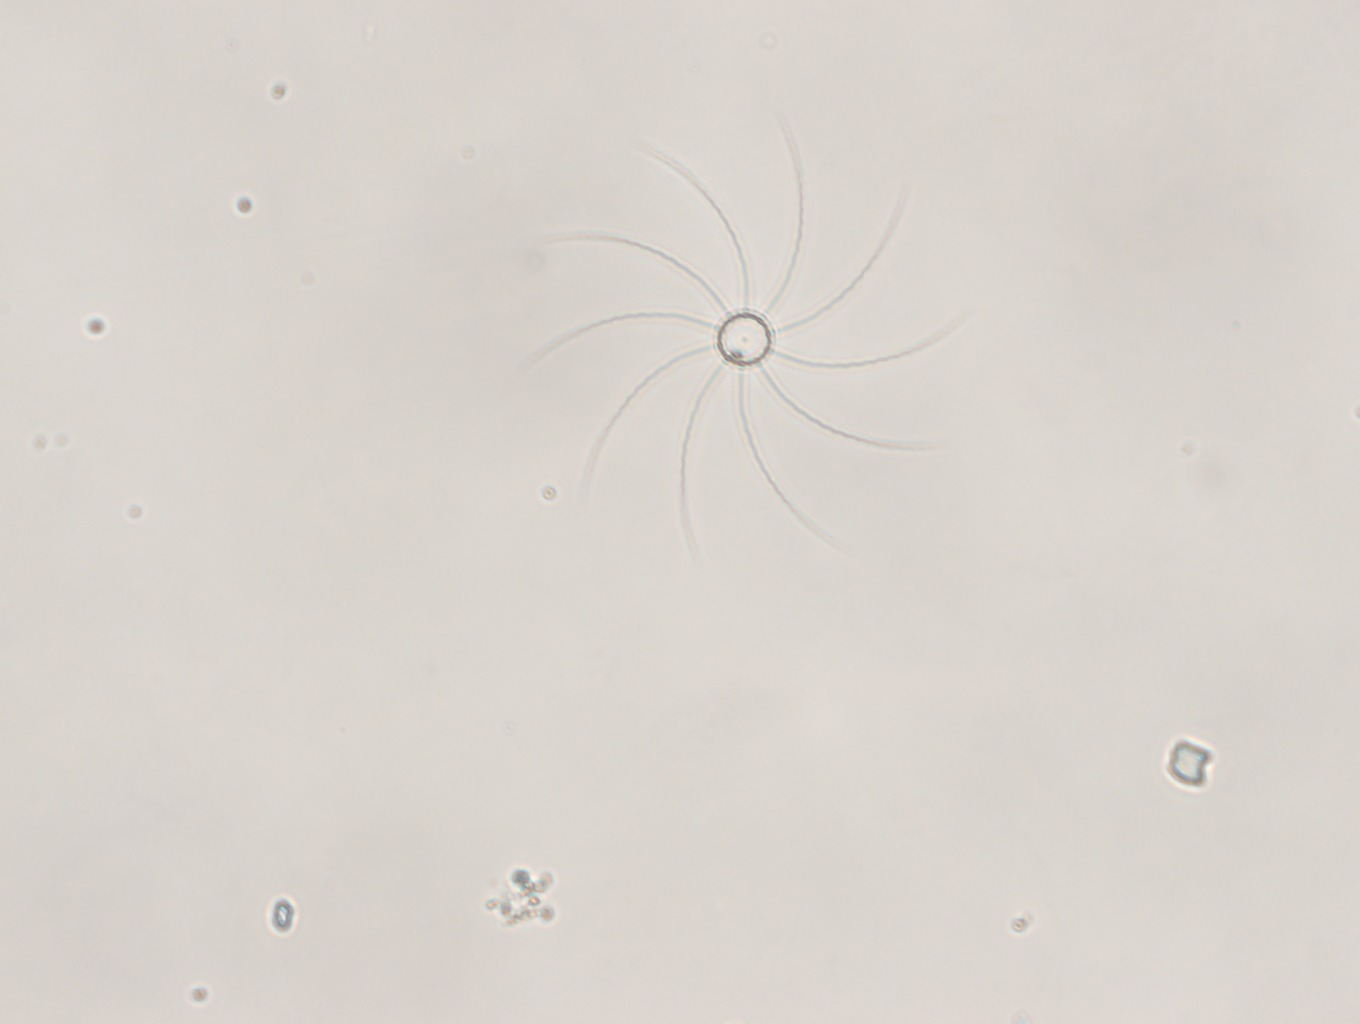bacteriastrum: (533, 120, 957, 563)
